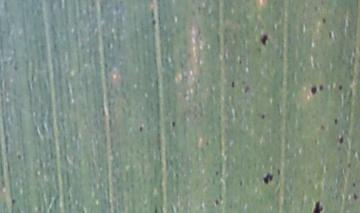tarspot: (310, 199, 323, 213), (260, 172, 273, 185), (259, 33, 269, 48), (308, 85, 317, 96), (149, 6, 157, 18), (242, 84, 250, 95), (337, 134, 345, 144), (351, 191, 359, 201), (326, 30, 333, 40), (275, 166, 282, 176), (236, 177, 243, 187), (9, 197, 17, 205), (15, 153, 23, 161), (320, 16, 328, 24), (149, 17, 157, 25), (317, 82, 324, 91), (230, 79, 236, 89), (237, 57, 243, 67), (337, 84, 344, 92), (259, 112, 266, 120), (213, 198, 220, 206), (170, 120, 177, 128), (152, 205, 159, 213), (318, 123, 326, 130), (345, 162, 352, 170), (173, 171, 179, 180), (204, 139, 210, 148), (333, 117, 339, 125), (138, 125, 144, 133), (351, 181, 357, 188), (214, 169, 219, 177)
